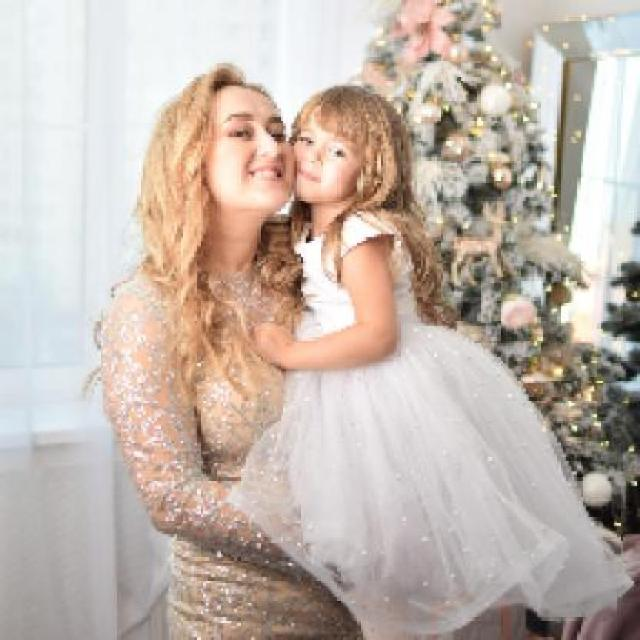child: (223, 81, 639, 638)
